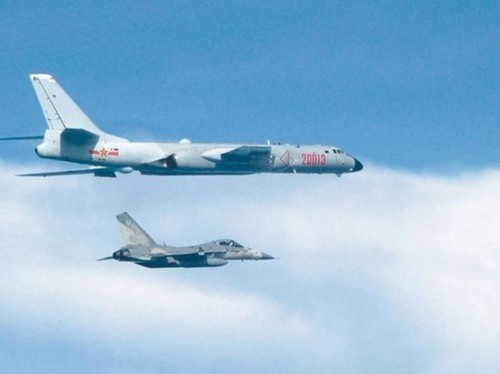airplane: (3, 71, 375, 182), (92, 210, 276, 270)
